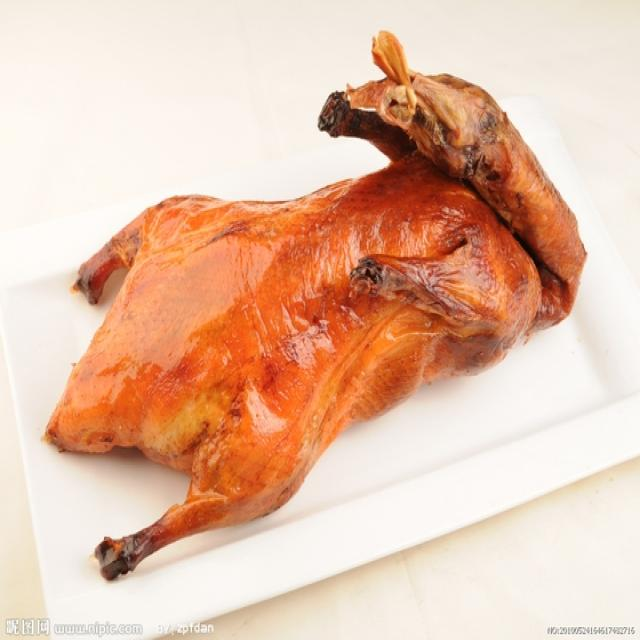烧串烤肉: (24, 42, 608, 597)
